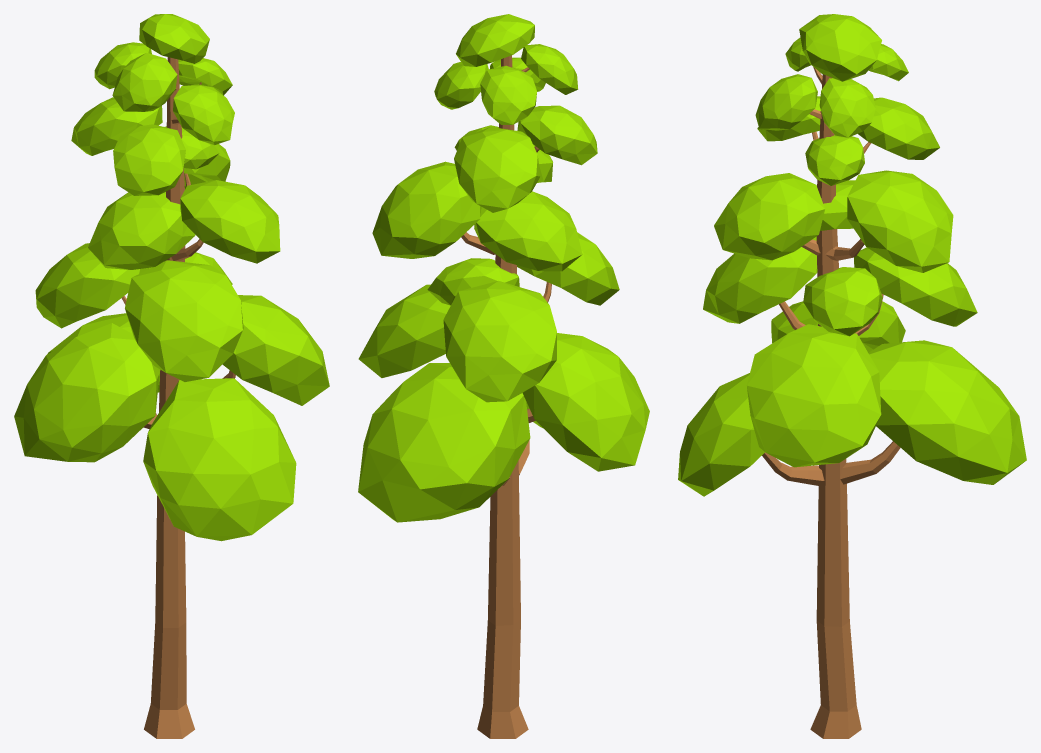
The model's file is Tree_10.fbx.
The picture shows the model from 3 angles, left to right: view 1: azimuth 30°, elevation 25°; view 2: azimuth 150°, elevation 25°; view 3: azimuth 270°, elevation 25°; orthographic projection.
Visible parts, largest first — view 1: tree_10; view 2: tree_10; view 3: tree_10.
Boxes of the visible parts, x1,y1,x2,y2 form: tree_10: (14,14,329,738); tree_10: (358,14,649,738); tree_10: (678,14,1026,738).
Size of the model in its own units: 668 by 1631 by 726.
